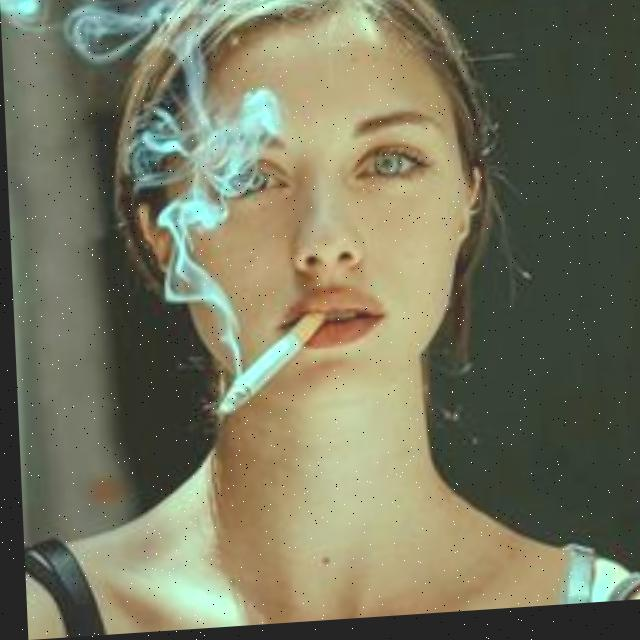cigarette: (207, 317, 324, 419)
